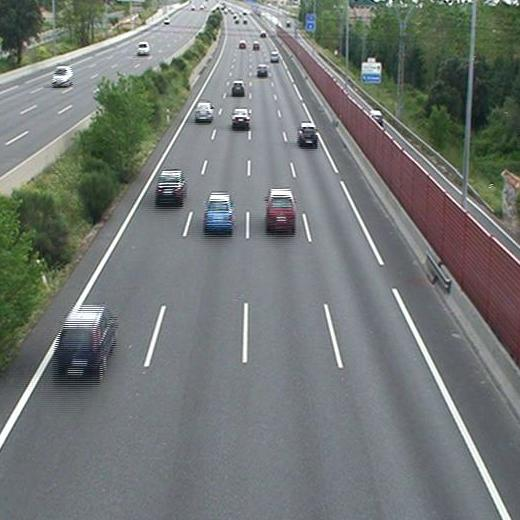car: (61, 311, 116, 366), (266, 189, 296, 228), (204, 195, 232, 228), (157, 170, 184, 199), (297, 124, 317, 142), (195, 103, 213, 120), (232, 109, 249, 124), (232, 81, 243, 93), (257, 64, 267, 75), (270, 51, 279, 62), (239, 40, 247, 49)
